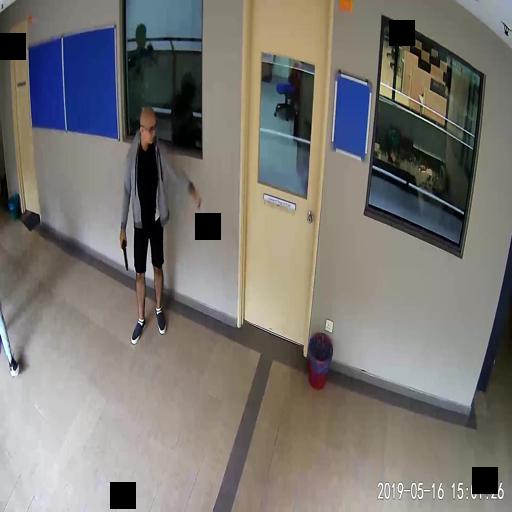Handgun: (118, 233, 127, 268)
